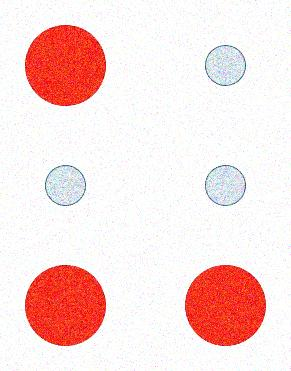U: (18, 15, 271, 352)
